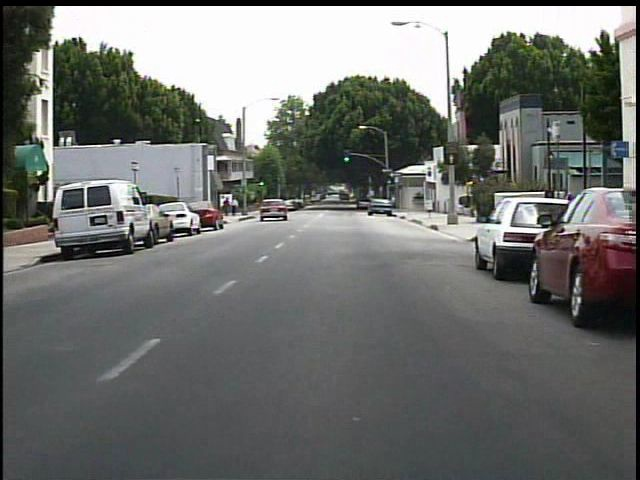person: (221, 196, 234, 219), (232, 197, 243, 220)
